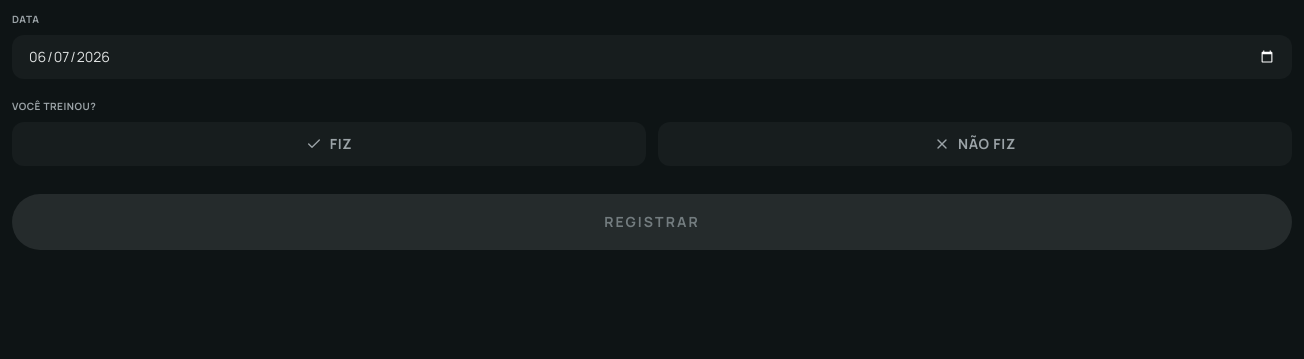
Test case: WorkoutForm › save button is enabled after selecting done
Click the button "Fiz" at (329, 144), box left=12, top=122, right=646, bottom=166
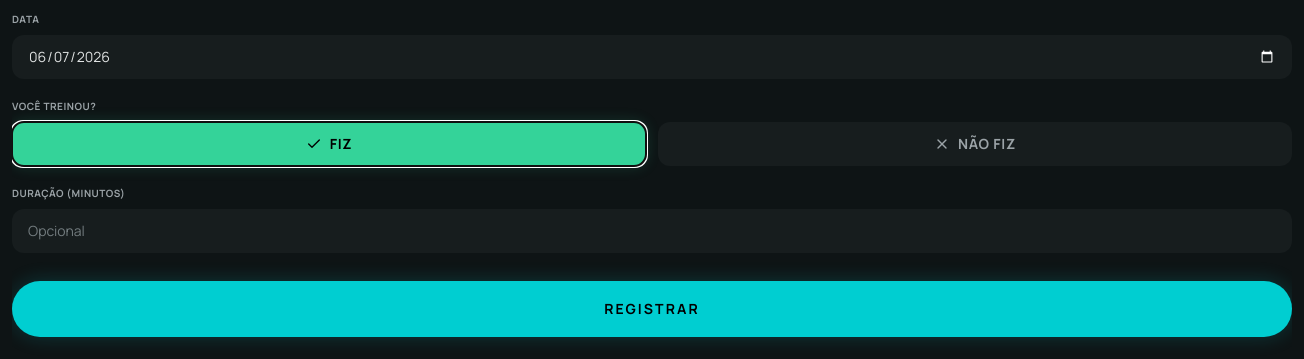
Check: the button "Registrar" is enabled, box left=12, top=281, right=1292, bottom=337
